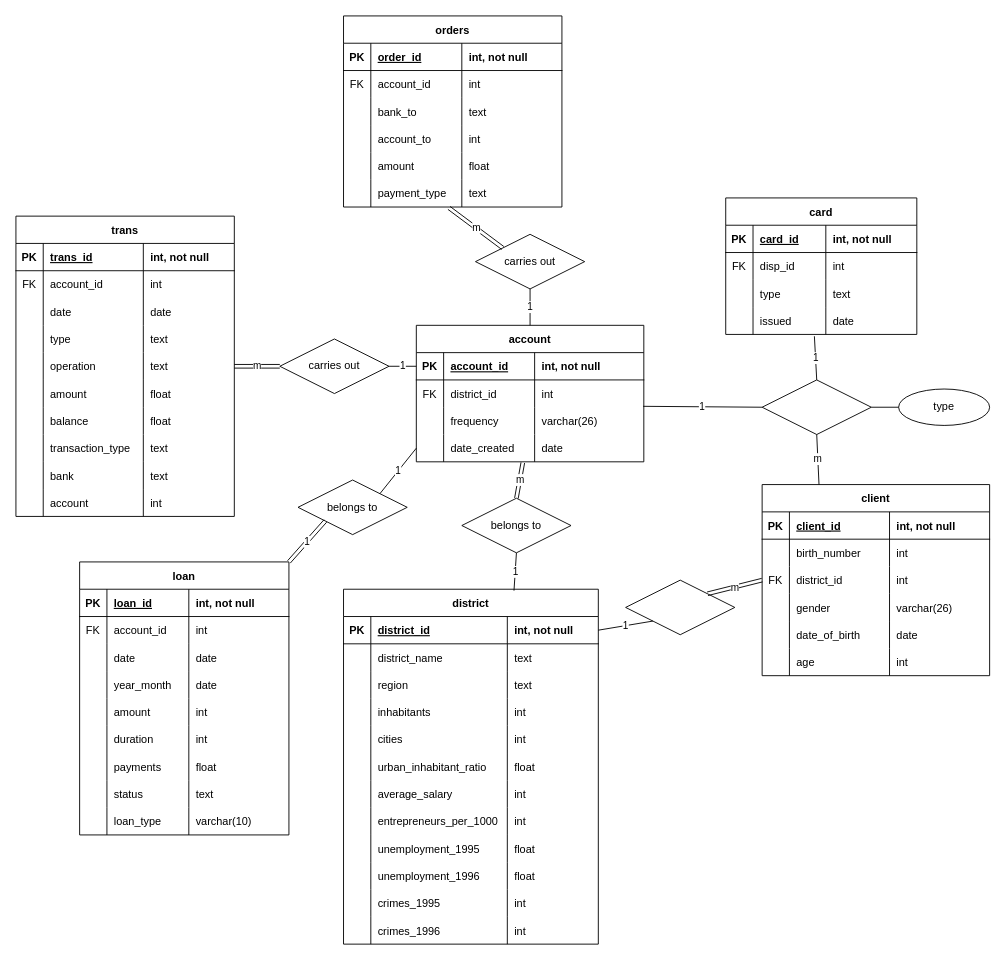
This 1006x960 diagram has some shape labels left out. The shapes that lost their labels are listed below. From the top down, each one's centre as x and y in pixels, then its label:
the point at 816,407: owned by (disposition)
the point at 680,607: lives in
